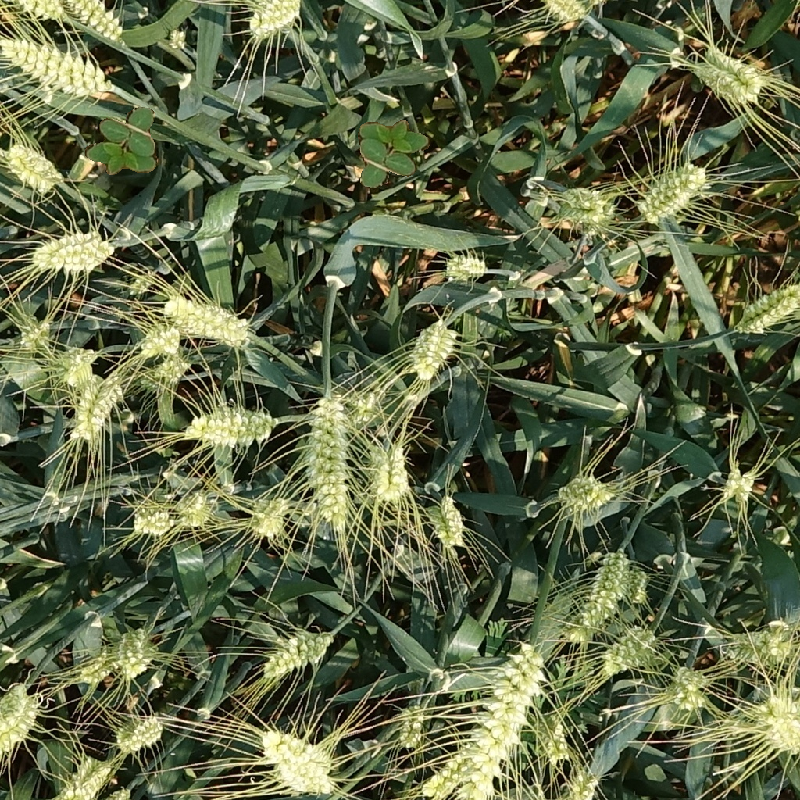spikelet: (437, 637, 548, 799), (301, 385, 357, 532), (559, 545, 635, 644), (1, 32, 113, 99), (255, 723, 339, 798), (159, 289, 255, 348), (635, 157, 711, 225), (690, 42, 771, 105), (180, 399, 277, 450), (256, 622, 336, 683), (66, 369, 127, 446), (717, 613, 799, 669), (28, 224, 116, 276), (731, 276, 800, 337), (418, 737, 484, 799), (596, 619, 661, 679), (1, 677, 45, 765), (363, 433, 414, 505), (406, 315, 460, 381), (1, 141, 65, 194), (49, 751, 115, 800), (553, 468, 617, 518), (52, 1, 128, 43), (751, 691, 800, 756), (557, 181, 615, 235), (112, 621, 161, 680), (45, 340, 100, 391), (111, 707, 169, 755), (661, 661, 713, 714), (533, 701, 574, 764), (425, 491, 469, 549), (137, 347, 192, 393), (713, 461, 760, 513), (245, 1, 305, 41), (245, 491, 292, 539), (128, 493, 176, 539), (173, 486, 220, 531), (68, 644, 116, 688), (135, 317, 184, 359), (391, 699, 430, 751), (13, 312, 55, 355), (556, 763, 604, 800), (442, 249, 489, 283), (1, 1, 69, 24), (532, 1, 593, 24)
weed: (358, 120, 430, 188), (85, 107, 157, 175)
